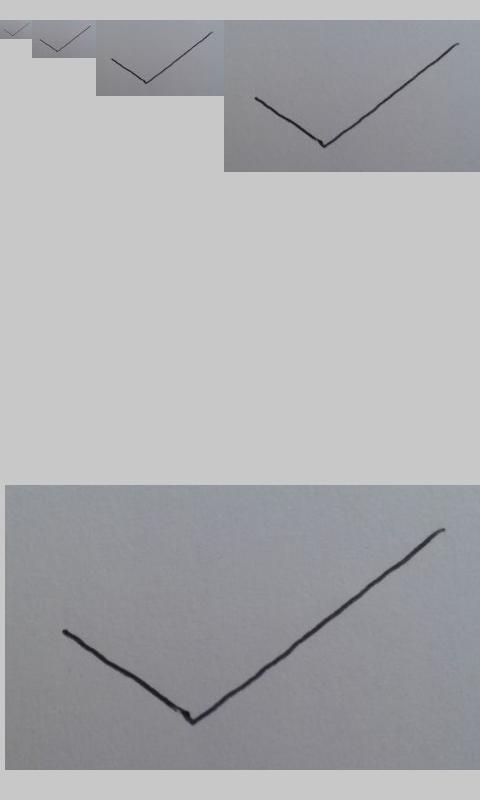check_box: (63, 530, 436, 728), (255, 43, 459, 149), (111, 32, 212, 84), (41, 26, 90, 52), (4, 23, 28, 37)
